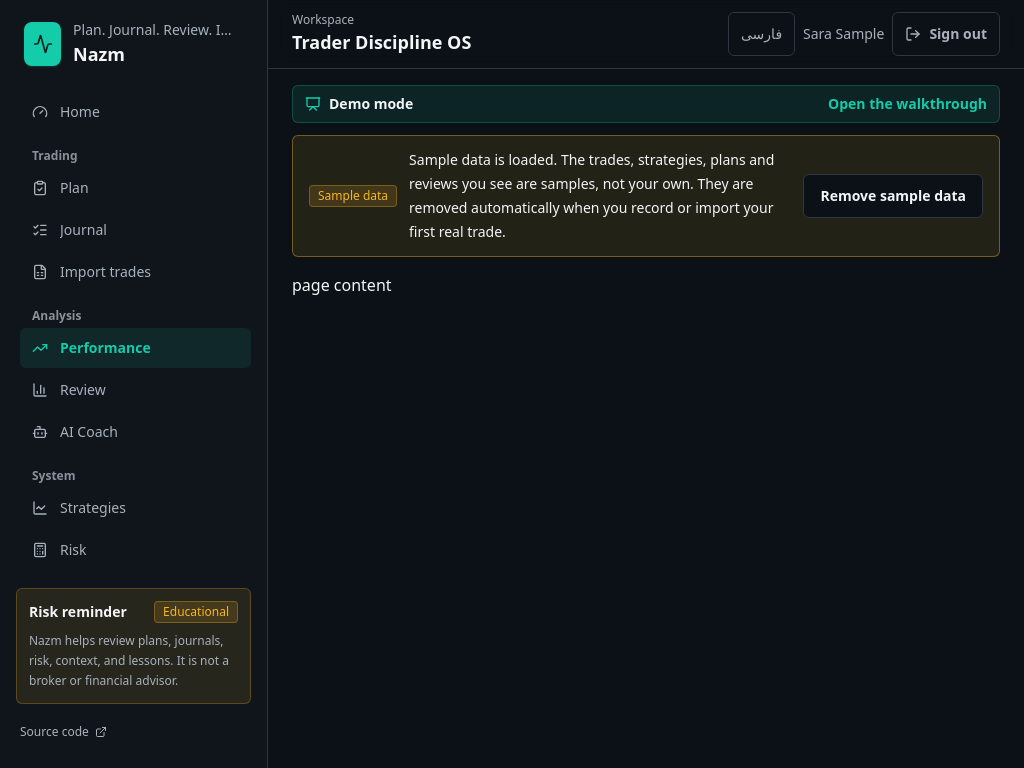
Scenario: the sample data label in the workspace shell › remounts the page after the sample data is removed, so a page that holds its own data shows what is left
This screenshot has width=1024, height=768.
Click the button "Remove sample data": (893, 196) [803,174,983,218]
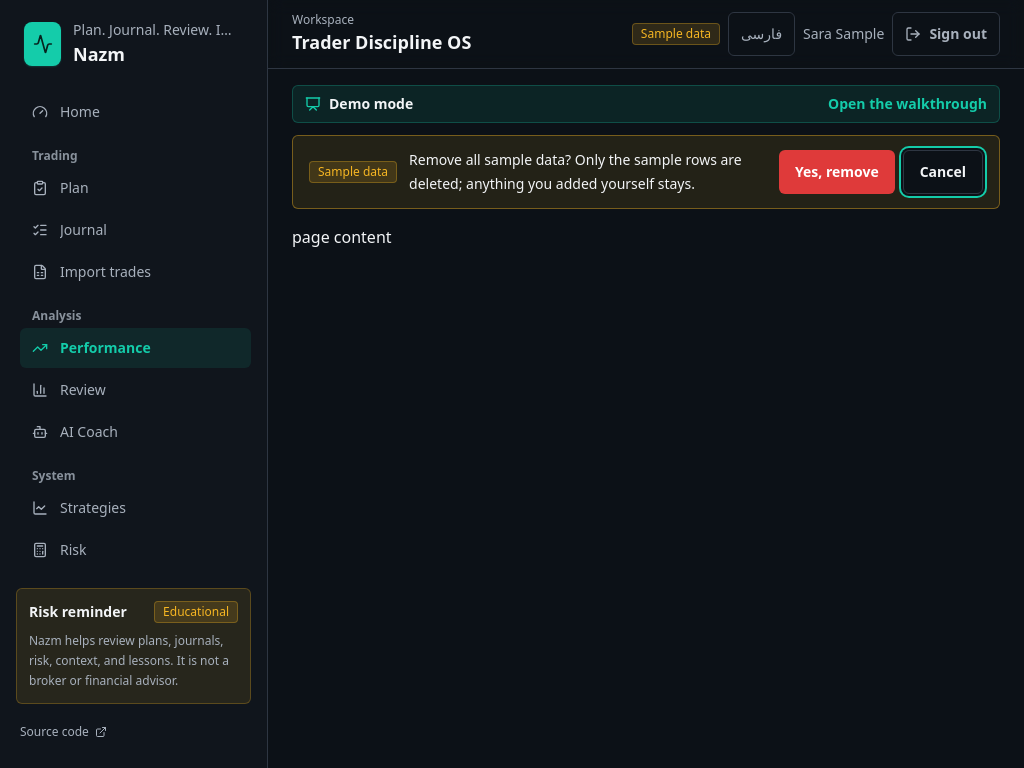
Click the button "Yes, remove": (837, 172) [779,150,895,194]
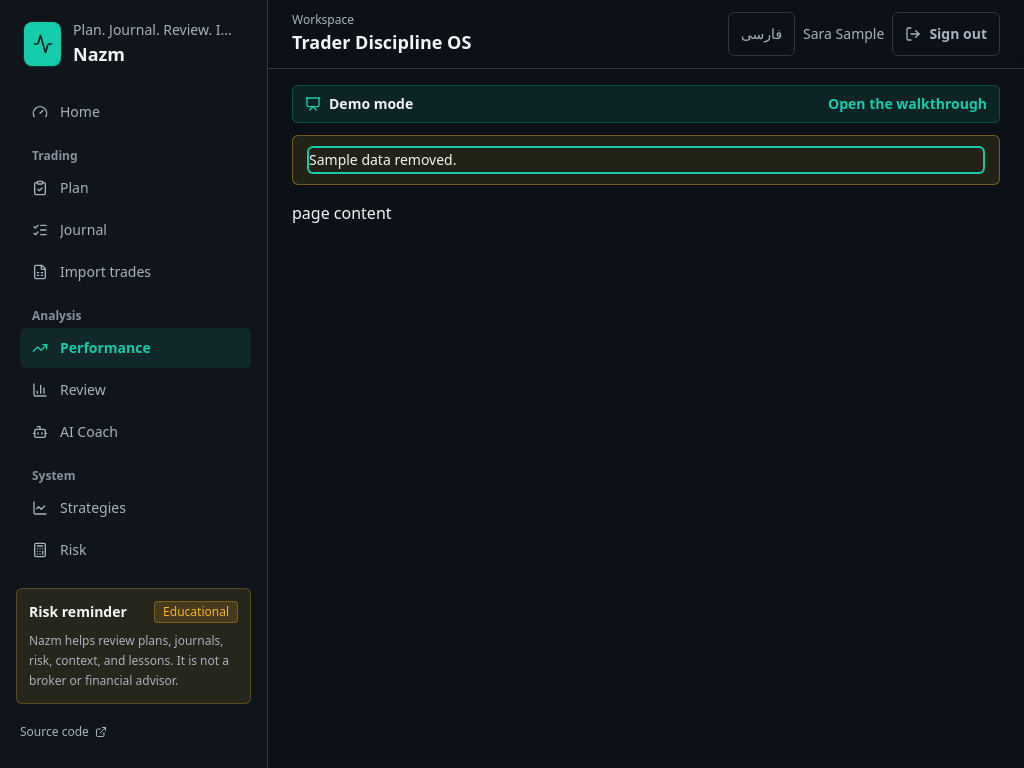
Expected: the message reads "Sample data removed.", [309,150,456,169]
